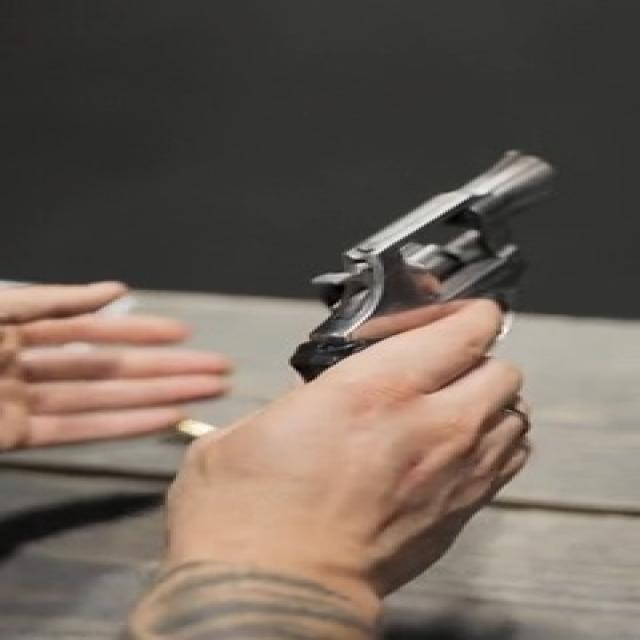Gun_Holder: (237, 144, 633, 418)
